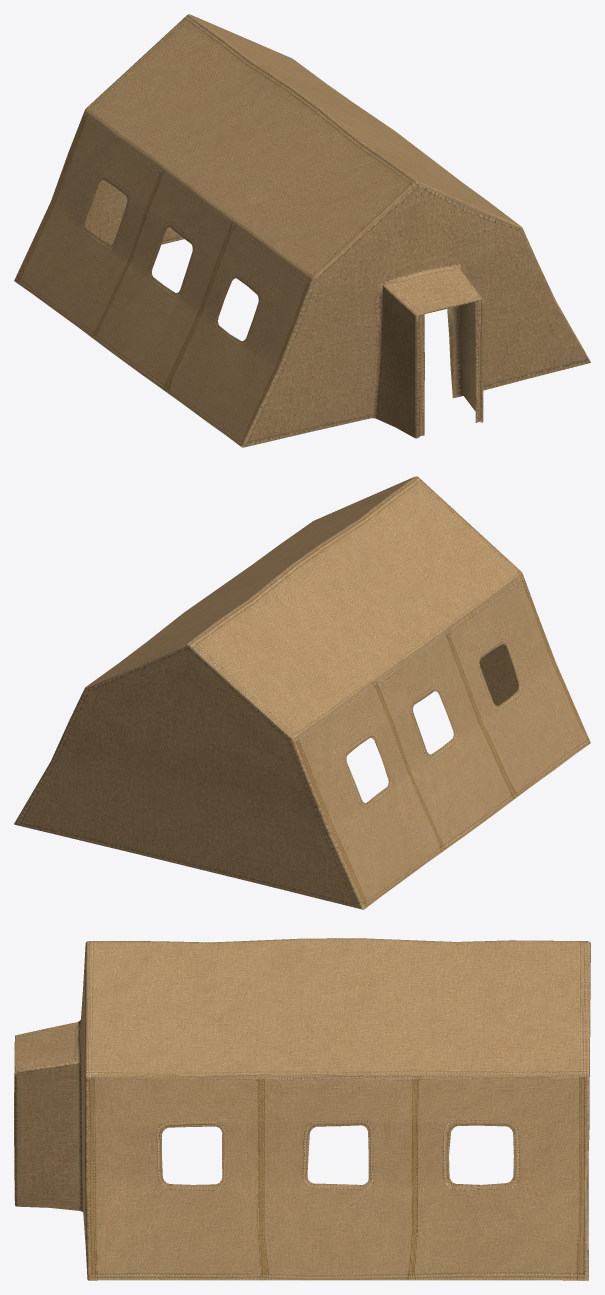
File: tent_reto_fuckedupUVs.fbx
3 views of the same model, one above another, from view 1: azimuth 30°, elevation 25°; view 2: azimuth 150°, elevation 25°; view 3: azimuth 270°, elevation 25° (orthographic). The views are drawn at different scales.
Visible parts, largest first — view 1: Plane.005; view 2: Plane.005; view 3: Plane.005.
Boxes of the visible parts, x1,y1,x2,y2 form: Plane.005: (14, 14, 590, 447); Plane.005: (14, 476, 590, 909); Plane.005: (14, 938, 590, 1280).
Bounding box in the file's own units: 633 × 390 × 817.
Materials: 1 (1 with a texture image).
